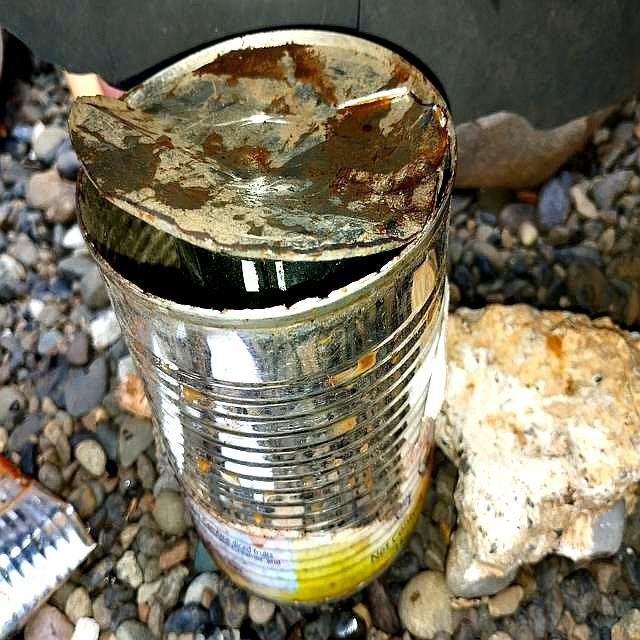Non-biodegradable: (67, 26, 461, 606), (1, 445, 116, 640)
